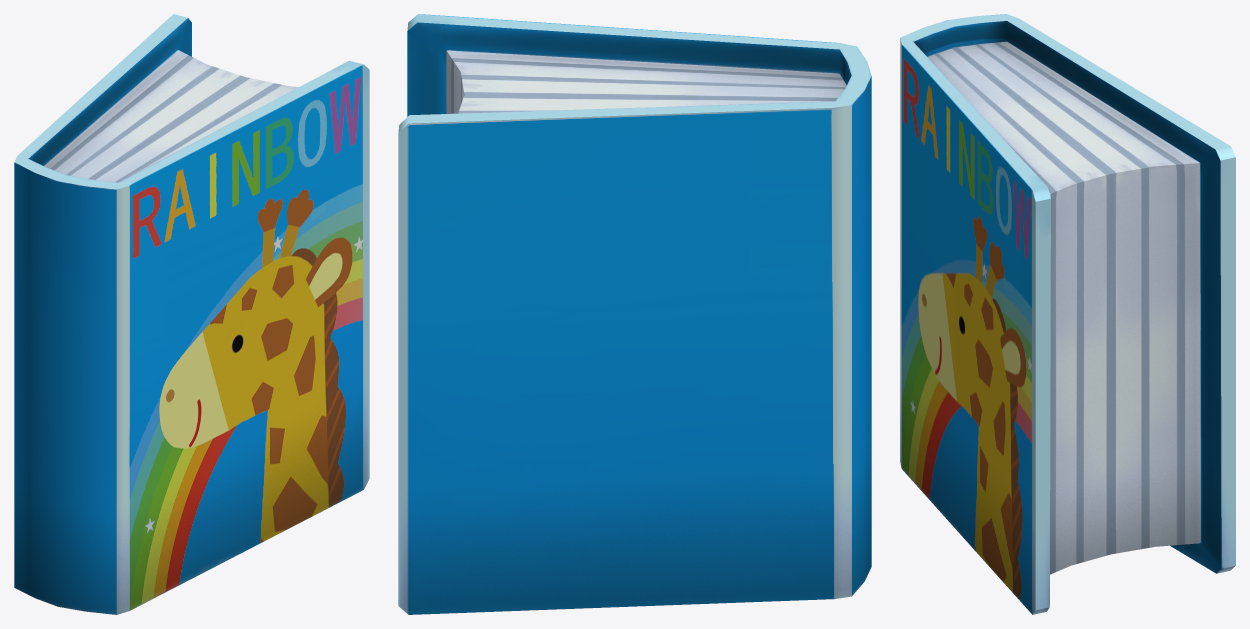
Rendered from Book.fbx.
3 views of the same model, side by side, from view 1: azimuth 30°, elevation 25°; view 2: azimuth 150°, elevation 25°; view 3: azimuth 270°, elevation 25° (orthographic). The views are drawn at different scales.
Visible parts, largest first — view 1: 079; view 2: 079; view 3: 079.
Part boxes in pixels (x1,y1,x2,y2): 079: [14, 14, 369, 614]; 079: [398, 14, 871, 614]; 079: [900, 14, 1235, 614].
Size of the model in its own units: 44.46 by 48.9 by 35.05.
1 material, 1 textured.
